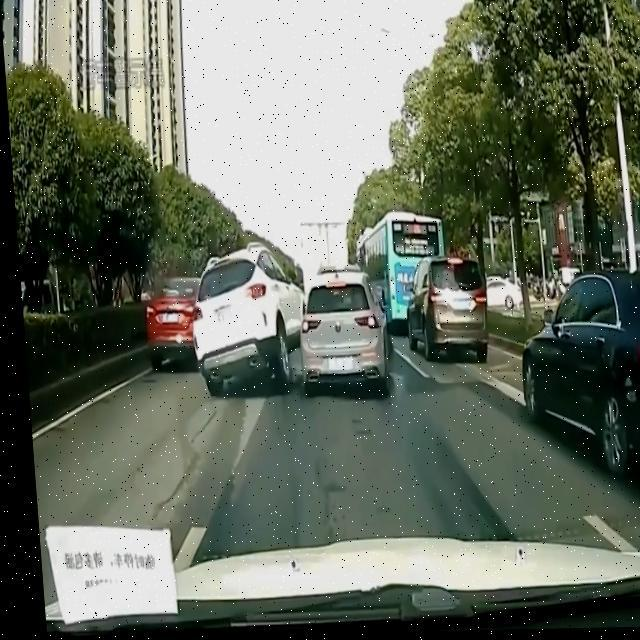multiple_accident: (148, 216, 405, 409)
